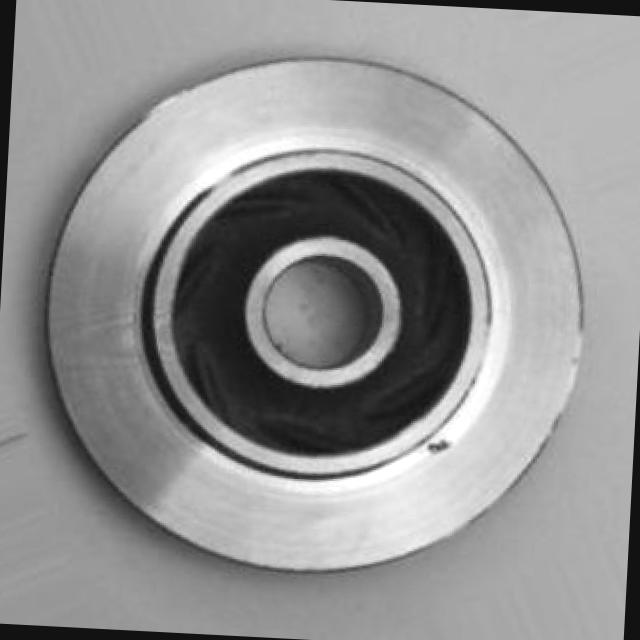Defect: (425, 430, 460, 460)
